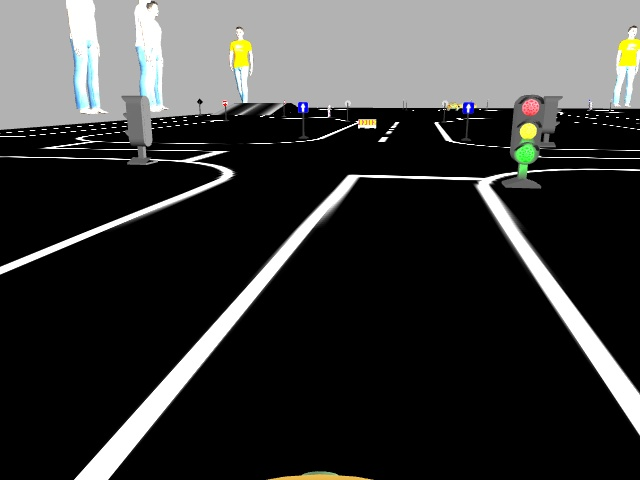ClosedRoadStand: (358, 118, 375, 128)
OneWay: (463, 101, 472, 112), (297, 102, 306, 112)
TrafficLight: (509, 95, 542, 165)
